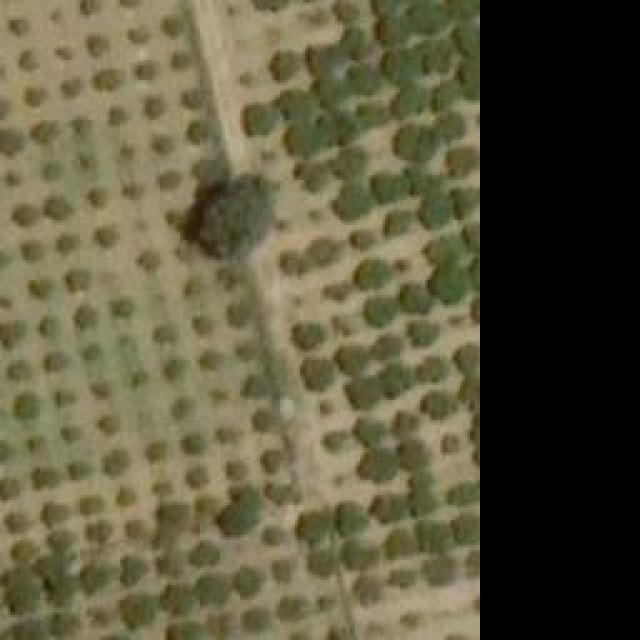Tree: (195, 188, 258, 258), (218, 488, 261, 533), (3, 563, 38, 613), (395, 125, 435, 163), (189, 153, 229, 187), (117, 593, 155, 628), (355, 448, 393, 483), (448, 24, 483, 60), (240, 103, 275, 138), (355, 258, 390, 293), (42, 560, 70, 603), (320, 110, 355, 143), (360, 293, 395, 326), (415, 40, 450, 73), (10, 393, 48, 423), (335, 182, 365, 220), (433, 262, 463, 300), (455, 59, 481, 102), (283, 123, 316, 156), (78, 560, 111, 593), (370, 493, 405, 523), (380, 363, 410, 398), (415, 523, 450, 553), (420, 553, 450, 588), (350, 575, 380, 608), (420, 195, 450, 228), (343, 540, 378, 568), (345, 380, 380, 408), (423, 235, 458, 263), (302, 238, 340, 263), (117, 553, 145, 586), (370, 175, 403, 203), (303, 360, 333, 390), (333, 150, 363, 180), (275, 598, 310, 623), (0, 357, 32, 384), (280, 90, 308, 120), (157, 503, 185, 533), (190, 493, 218, 523), (235, 565, 263, 595), (197, 573, 225, 603), (163, 585, 193, 613), (305, 547, 335, 575), (385, 528, 413, 558), (293, 322, 323, 350), (405, 320, 435, 348), (445, 145, 475, 173), (422, 83, 450, 113), (453, 186, 481, 216), (90, 65, 123, 90), (418, 358, 451, 383), (398, 285, 431, 310), (312, 77, 340, 105), (157, 10, 185, 38), (0, 320, 28, 348), (252, 407, 280, 435), (335, 505, 363, 533), (48, 613, 81, 636), (455, 513, 478, 546), (380, 213, 413, 236), (385, 53, 410, 83), (178, 85, 208, 110), (40, 500, 70, 525), (238, 608, 268, 633), (420, 393, 450, 418), (368, 333, 398, 358), (273, 250, 303, 275), (345, 27, 370, 55), (348, 65, 373, 93), (402, 8, 430, 33), (137, 93, 165, 118), (62, 270, 90, 295), (40, 353, 68, 378), (105, 450, 133, 475), (237, 373, 265, 398), (155, 553, 183, 578), (167, 395, 195, 420), (295, 515, 323, 540), (355, 418, 383, 443), (408, 487, 433, 515), (273, 50, 296, 80), (263, 483, 293, 506), (448, 483, 478, 506), (128, 365, 155, 390), (458, 343, 478, 376), (90, 225, 118, 248), (190, 543, 218, 566), (390, 410, 413, 438), (310, 48, 335, 73), (48, 195, 73, 220), (148, 130, 173, 155), (23, 238, 48, 263), (133, 248, 158, 273), (160, 358, 185, 383), (178, 430, 203, 455), (435, 115, 460, 140), (398, 608, 424, 631), (380, 20, 405, 43), (390, 90, 413, 115), (20, 85, 45, 108), (80, 33, 105, 56), (33, 120, 58, 143), (40, 318, 63, 343), (65, 458, 90, 481), (88, 603, 113, 626), (223, 458, 248, 481), (320, 430, 345, 453), (400, 443, 425, 466), (358, 103, 383, 126), (120, 180, 148, 200), (30, 468, 58, 488), (2, 513, 30, 533), (322, 280, 350, 300), (332, 0, 357, 22), (0, 130, 22, 155), (464, 224, 482, 254), (170, 50, 193, 73), (40, 160, 63, 183), (235, 68, 259, 90), (42, 532, 70, 550), (167, 622, 195, 640), (450, 0, 478, 18), (155, 170, 180, 190), (108, 300, 133, 320), (225, 303, 250, 323), (150, 325, 175, 345), (195, 353, 220, 373), (233, 340, 258, 360), (260, 448, 280, 473), (15, 620, 40, 640), (270, 560, 295, 580), (440, 433, 462, 455), (257, 148, 279, 170), (5, 18, 28, 38), (125, 25, 148, 45), (138, 60, 158, 83), (108, 105, 131, 125), (73, 153, 93, 176), (88, 188, 111, 208), (13, 205, 36, 225), (55, 233, 78, 253), (80, 343, 103, 363), (98, 413, 121, 433), (13, 543, 36, 563), (115, 485, 138, 505), (185, 465, 205, 488), (408, 465, 428, 488), (350, 230, 373, 250), (328, 623, 355, 640), (368, 0, 398, 15), (58, 77, 83, 95), (255, 0, 283, 15), (115, 140, 133, 163), (187, 120, 205, 143), (0, 478, 18, 501), (80, 495, 103, 513), (88, 522, 111, 540), (260, 527, 283, 545), (75, 305, 95, 325), (53, 388, 73, 408), (145, 443, 165, 463), (192, 315, 210, 335), (125, 520, 145, 538), (215, 427, 235, 445), (390, 570, 410, 588), (75, 0, 98, 15), (58, 425, 81, 440), (25, 432, 43, 450), (25, 283, 45, 298), (90, 380, 110, 395), (208, 388, 228, 403), (17, 53, 35, 68), (55, 45, 73, 60), (315, 595, 333, 610), (315, 400, 330, 415)
